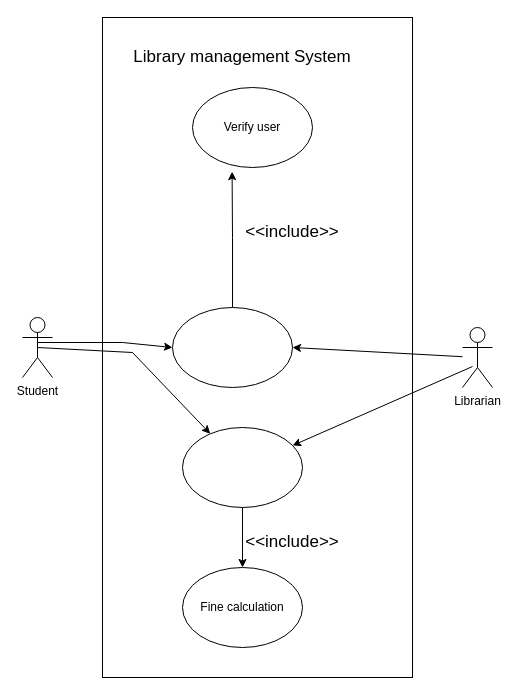
The diagram is 518 pixels wide and 695 high, and some of its shapes have lost their labels. The shapes that lost their labels are listed below. From the top down, each one's centre as x and y in pixels, then its label:
At [232,347]: "Book Issue".
At [242,467]: "Book return".
